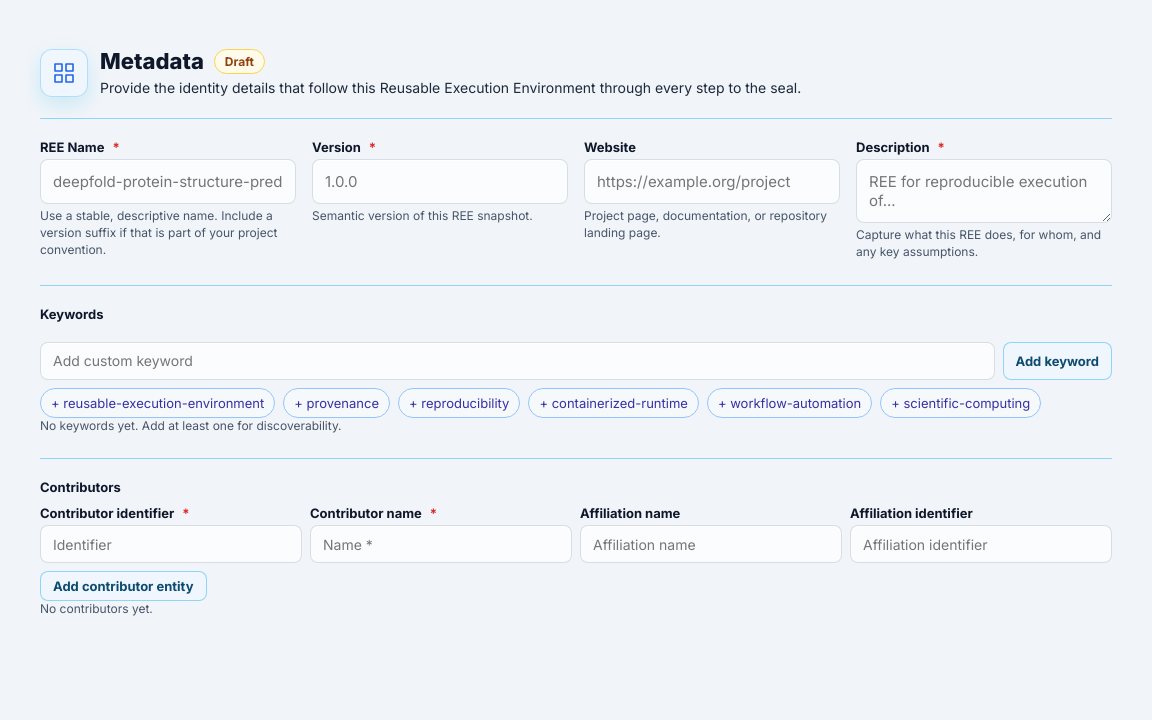
it: PageMetadataEntry › contributors › surfaces the validation error rather than adding a nameless entry
The image size is (1152, 720).
Type "0000-0002-1825-0097" into the field with placeholder "identifier".
click(171, 544); type("0000-0002-1825-0097")  # box [40, 525, 302, 563]
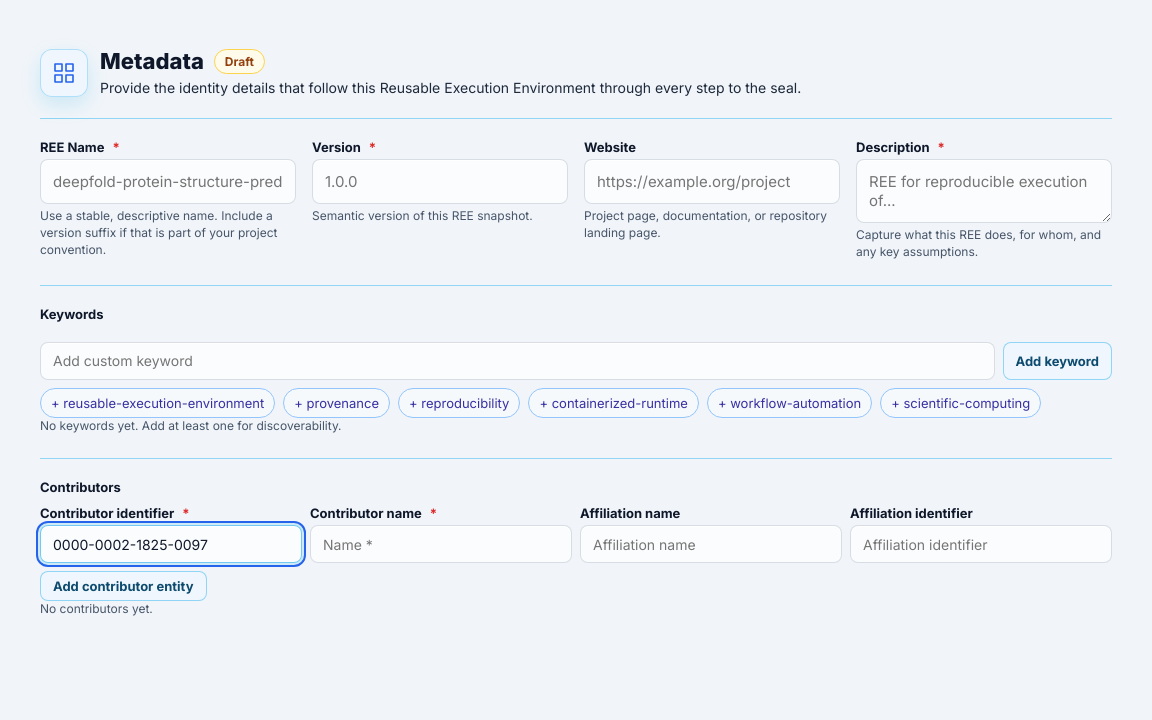
Click the button "Add contributor entity".
click(123, 586)  # box [40, 571, 206, 601]
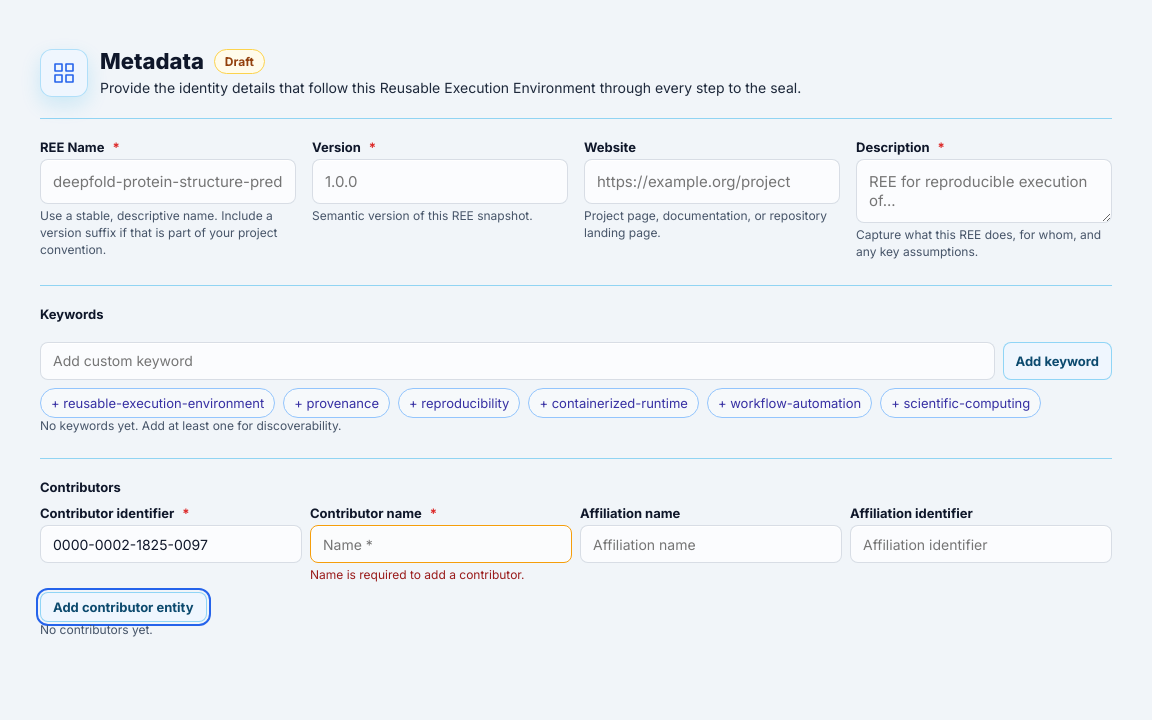
Expected: the message reads "Name is required to add a contributor.", [310, 567, 525, 582]
